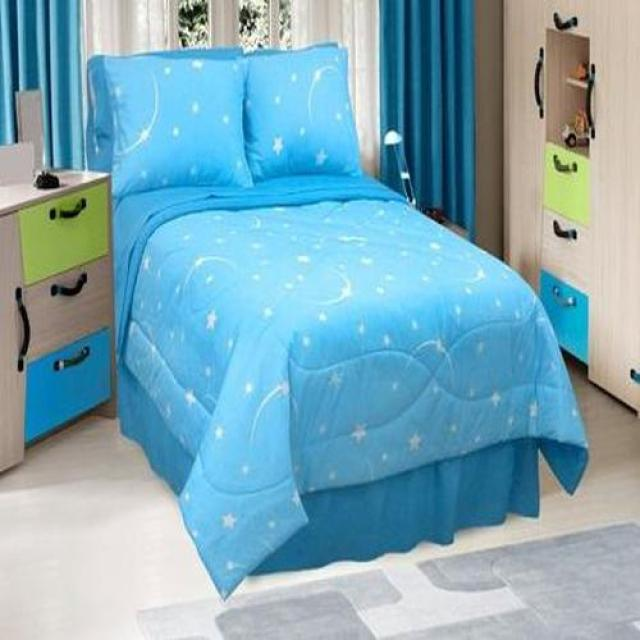bed: (86, 42, 590, 600)
